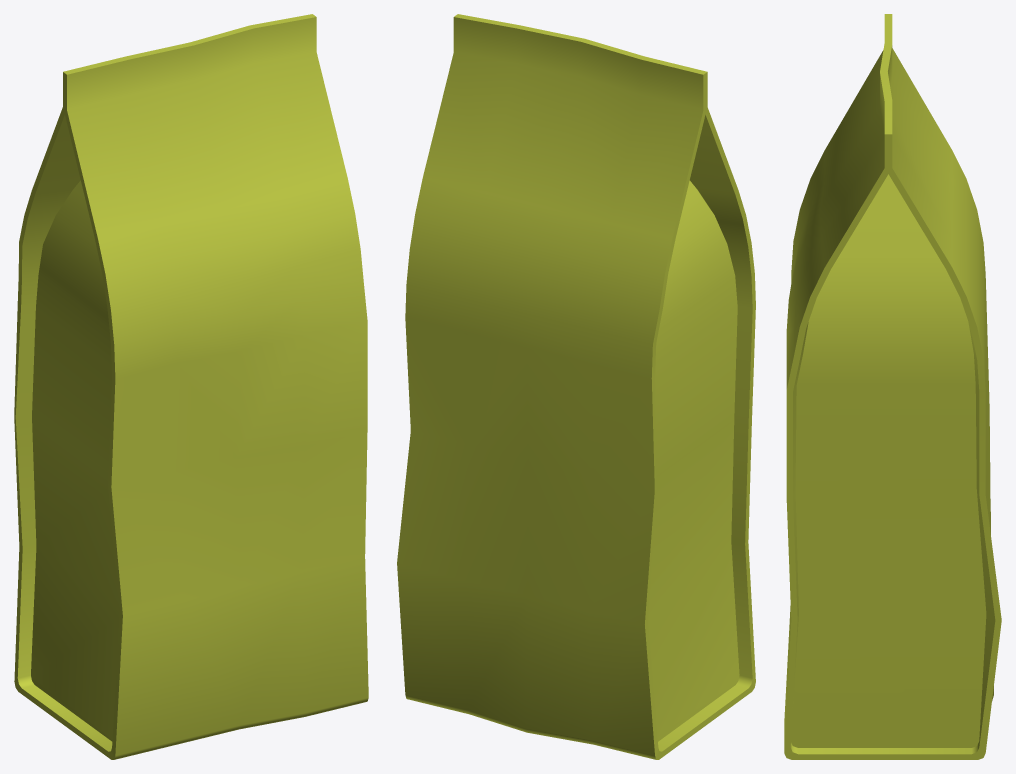
Rendered from Coffe.fbx.
3 renders of one model, left to right at view 1: azimuth 30°, elevation 25°; view 2: azimuth 150°, elevation 25°; view 3: azimuth 270°, elevation 25°, orthographic. The views are drawn at different scales.
Visible parts, largest first — view 1: Coffe; view 2: Coffe; view 3: Coffe.
Part boxes in pixels (box(x1,y1,x2,y2)): Coffe: box(14, 14, 368, 759); Coffe: box(397, 14, 755, 759); Coffe: box(784, 14, 1001, 759).
Bounding box in the file's own units: 10 × 25 × 7.83.
